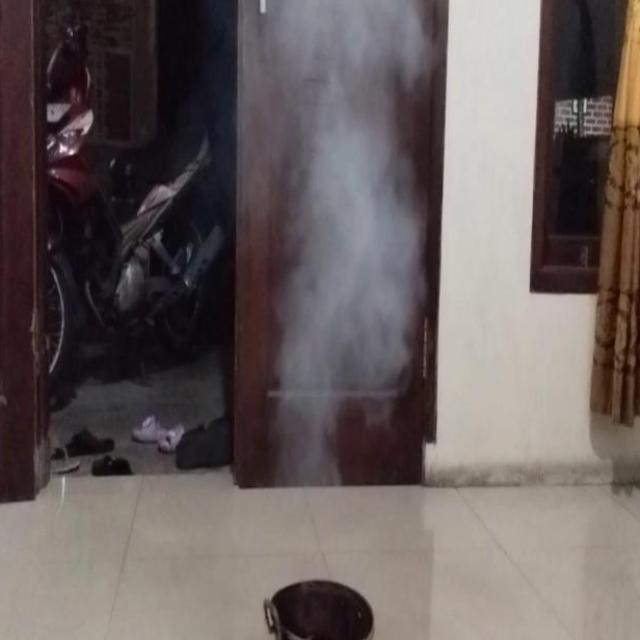fire: (267, 0, 428, 418)
